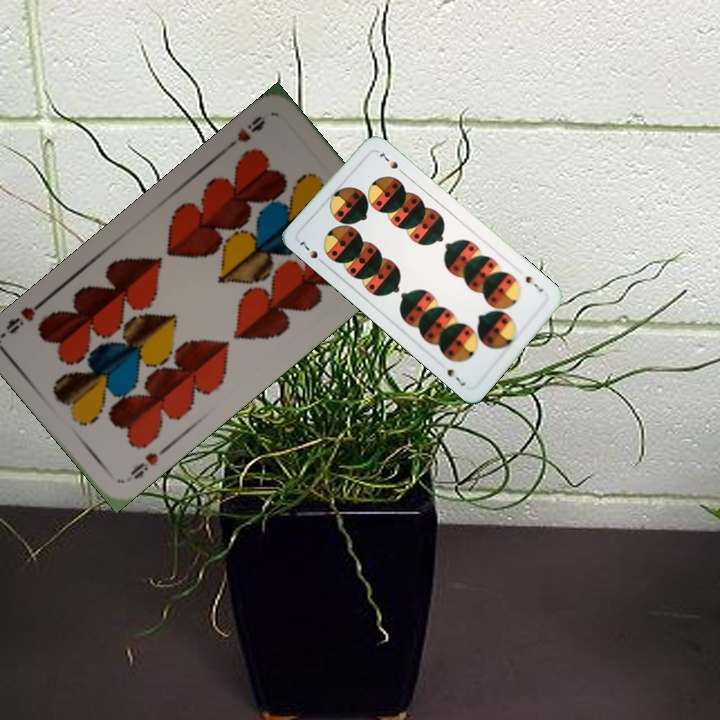H9: (222, 111, 269, 153), (126, 442, 171, 482)
S7: (295, 237, 328, 267), (521, 271, 546, 295)
